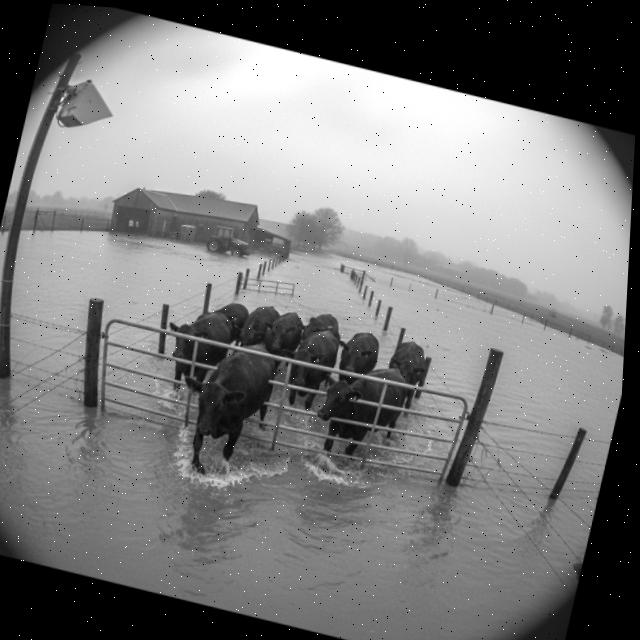cow: (161, 316, 290, 488), (306, 347, 418, 481), (148, 299, 239, 404), (267, 316, 341, 420), (376, 333, 436, 410), (226, 291, 290, 359), (330, 322, 387, 396), (258, 298, 308, 368), (202, 293, 256, 345), (300, 306, 354, 352)
